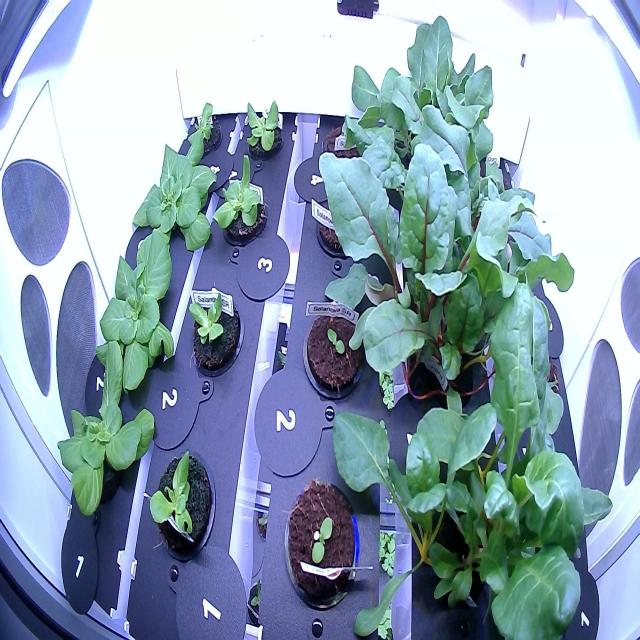germination: (280, 470, 364, 613), (294, 282, 372, 412)
pod: (310, 174, 380, 273), (315, 109, 371, 186)
young: (42, 332, 162, 526), (90, 221, 186, 399), (125, 125, 219, 270), (146, 436, 222, 577), (180, 273, 246, 384), (210, 148, 276, 256), (179, 92, 225, 172), (237, 94, 286, 164)
